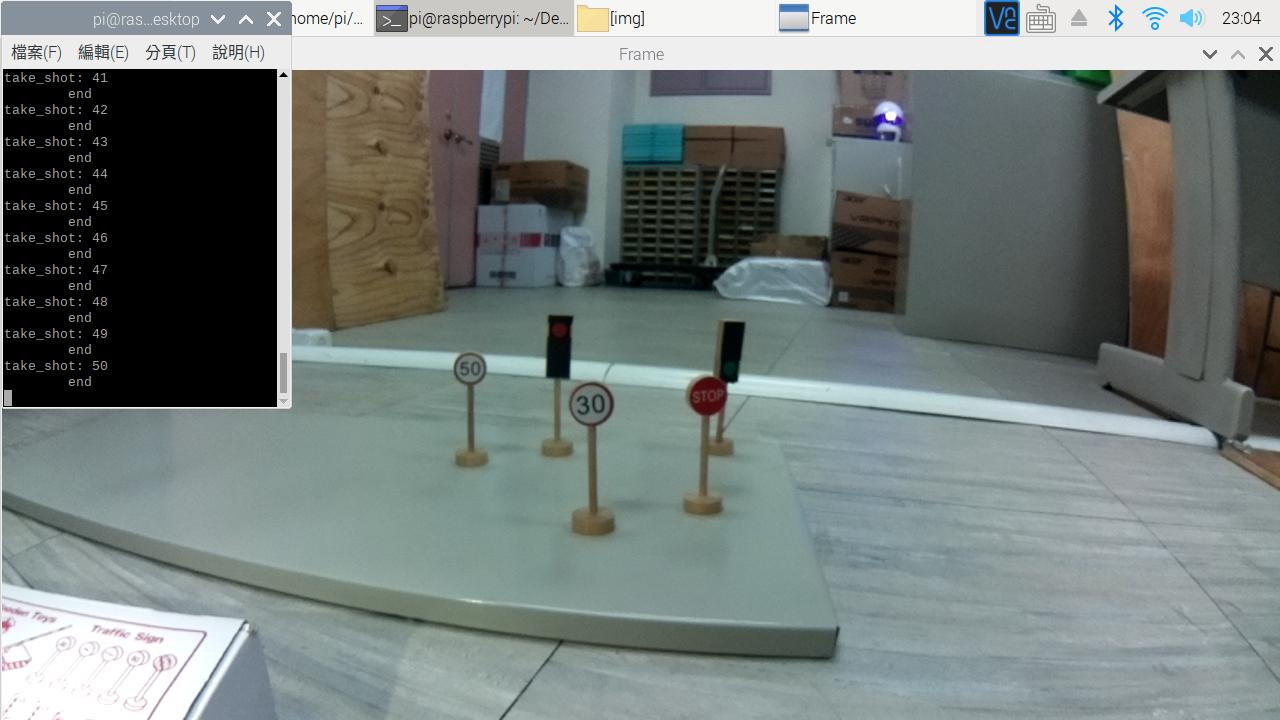Green: (719, 321, 746, 386)
Red: (546, 316, 576, 383)
Speed30: (570, 382, 618, 426)
Speed50: (454, 351, 487, 387)
Stop: (687, 378, 731, 418)
